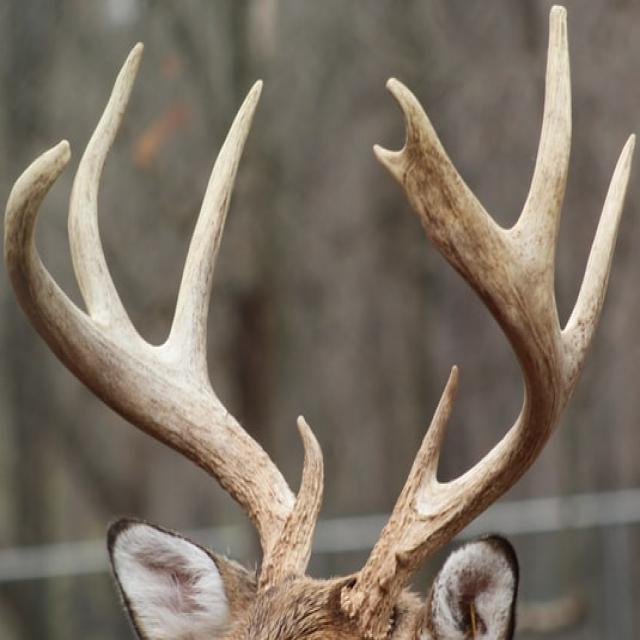E1: (372, 142, 407, 186)
L-F: (340, 75, 564, 639)
L-G1: (403, 365, 459, 491)
L-G2: (561, 132, 636, 406)
L-G3: (510, 3, 572, 280)
R-F: (2, 139, 312, 592)
R-G1: (280, 414, 325, 551)
R-G2: (163, 77, 265, 376)
R-G3: (68, 42, 145, 342)
